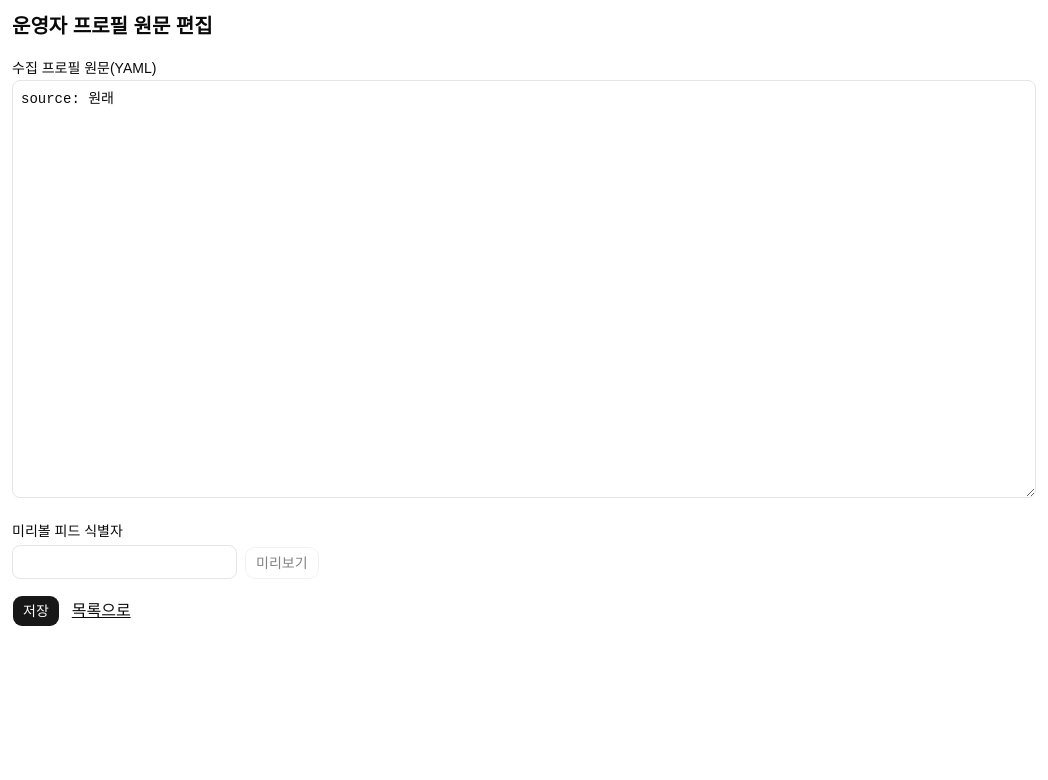
ProfileEditorPage › 끈 피드 · 더한 피드가 없는 수정은 그 줄을 보이지 않는다
Expected: the text box labelled "수집 프로필 원문(YAML)" is shown, [12, 80, 1036, 498]
Click the button "저장": (36, 611) [12, 595, 60, 627]
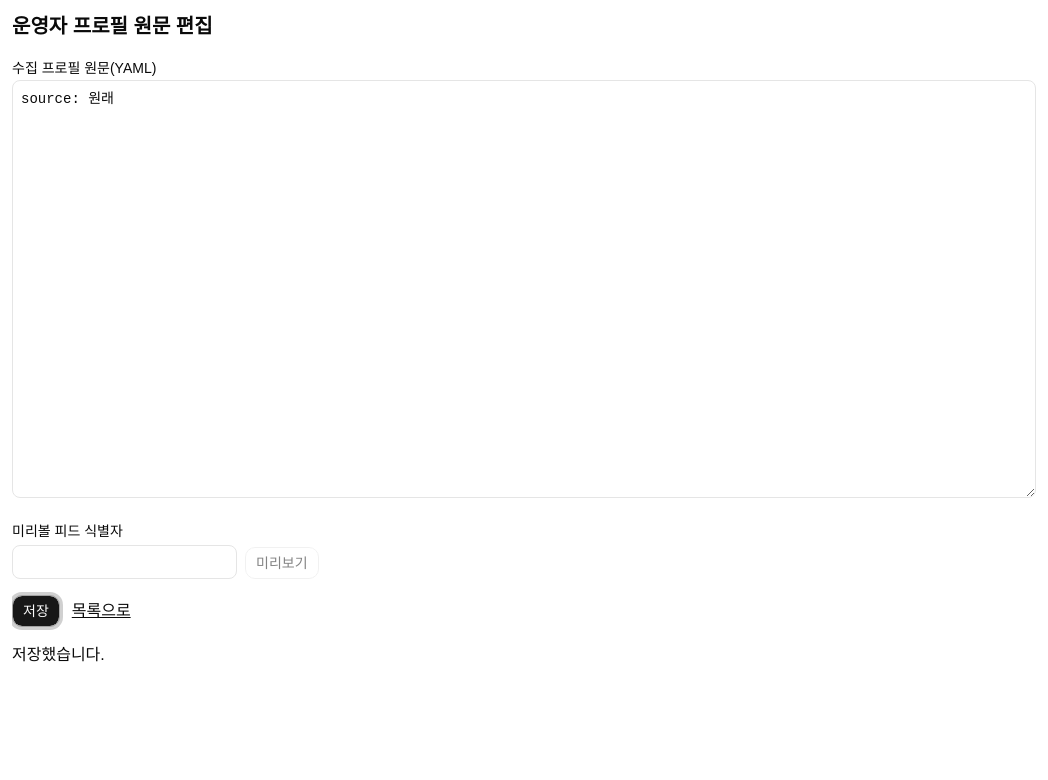
Expected: the message does not show "읽기 설정이 바뀌어 끈 피드", [12, 646, 105, 663]
Result: the message reads "저장했습니다." at [12, 646, 105, 663]
